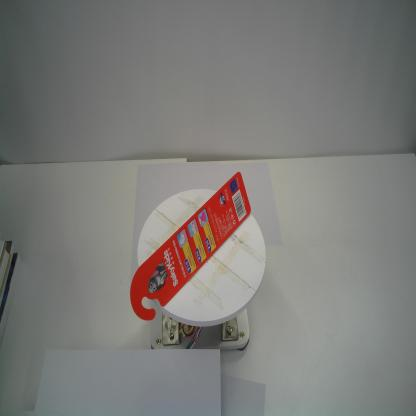Personal Hygiene: (130, 171, 251, 321)
